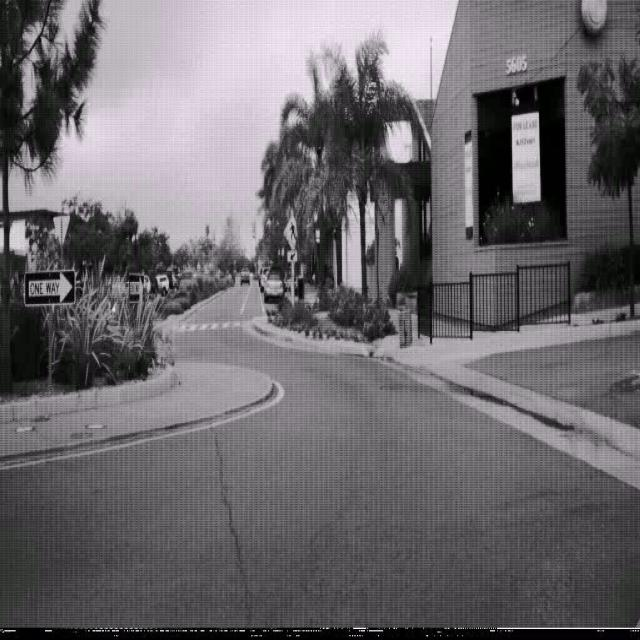pedestrianCrossing: (282, 214, 302, 252)
